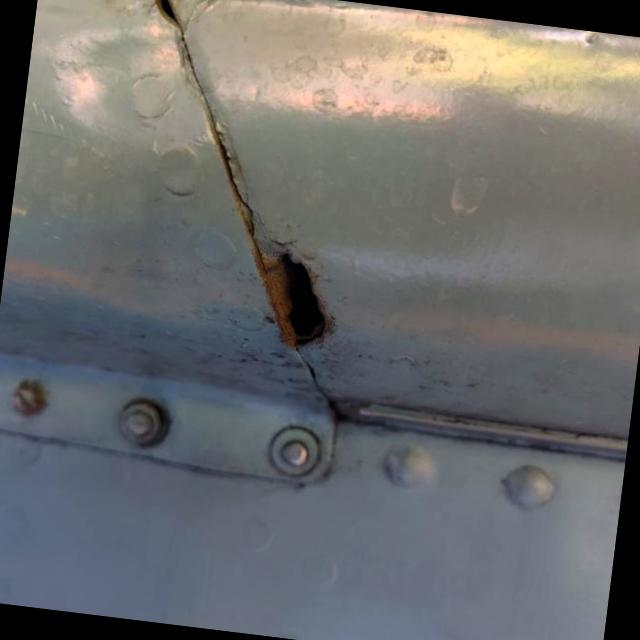crack: (236, 230, 360, 368)
